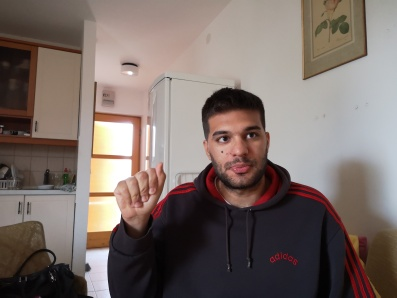A: (112, 160, 168, 220)
